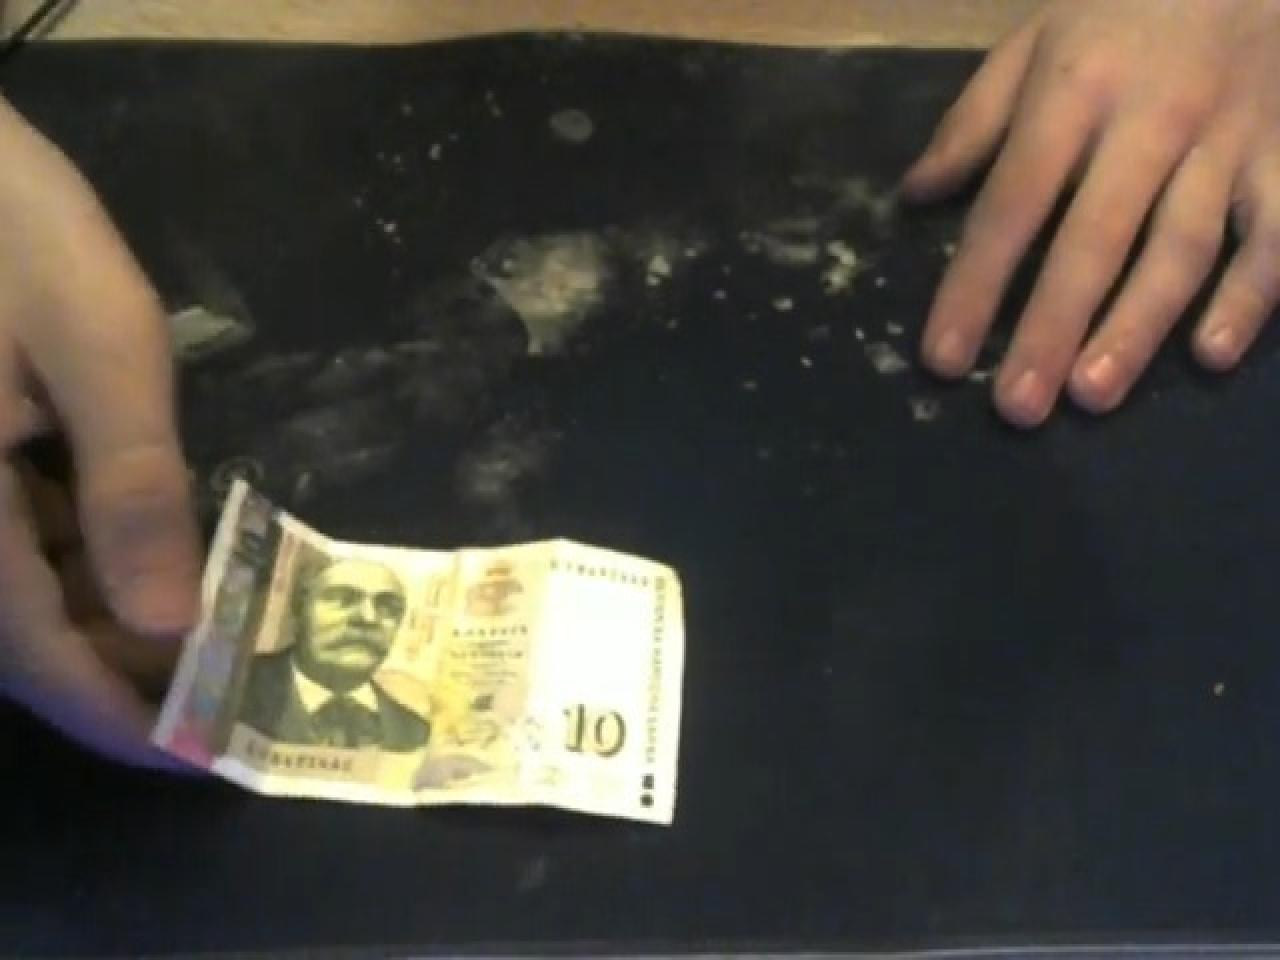10leva: (146, 488, 688, 829)
